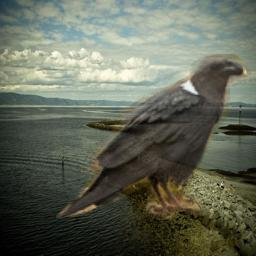Crow: (56, 54, 251, 226)
